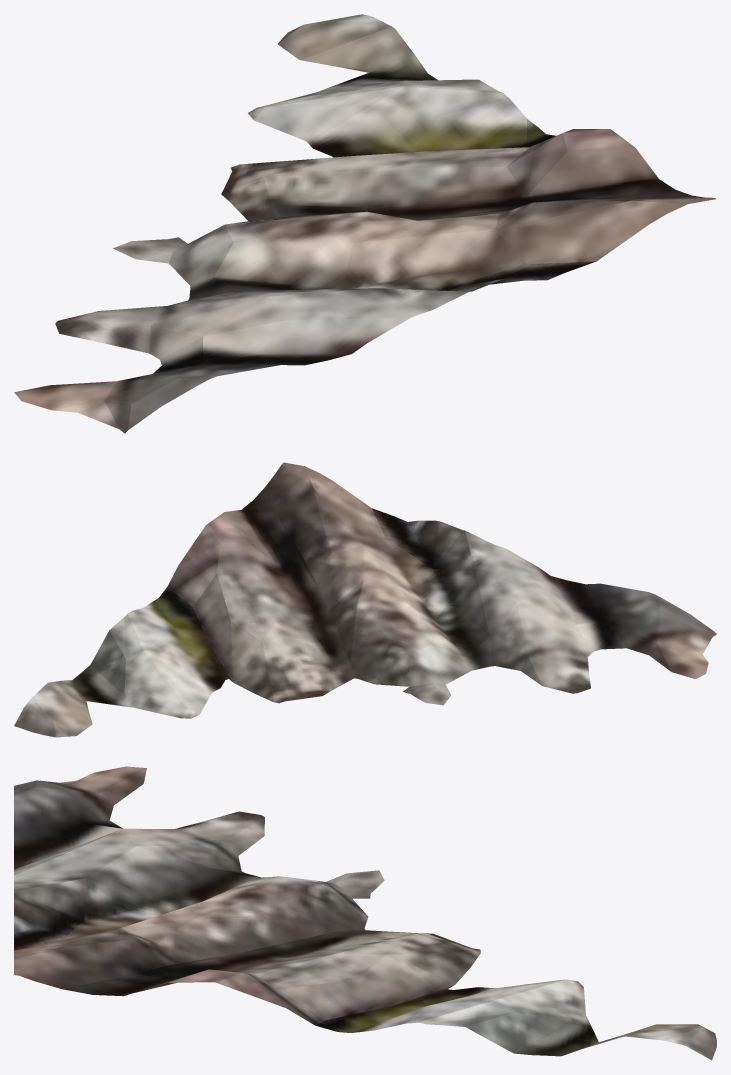
3 renders of one model, top to bottom at view 1: azimuth 30°, elevation 25°; view 2: azimuth 150°, elevation 25°; view 3: azimuth 270°, elevation 25°, orthographic. The views are drawn at different scales.
Size of the model in its own units: 0.8347 by 0.1156 by 0.8434.
1 material, 1 textured.
